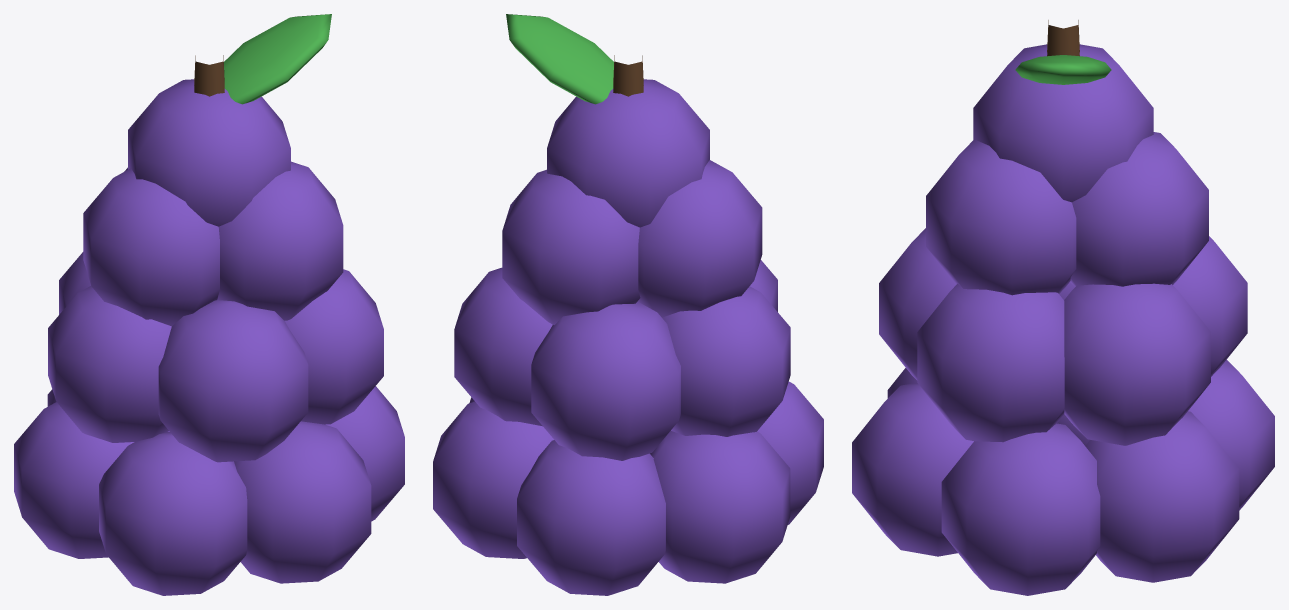
Rendered from grapes.glb.
3 renders of one model, left to right at view 1: azimuth 30°, elevation 25°; view 2: azimuth 150°, elevation 25°; view 3: azimuth 270°, elevation 25°, orthographic. The views are drawn at different scales.
Visible parts, largest first — view 1: match/grapes; view 2: match/grapes; view 3: match/grapes.
Boxes of the visible parts, box(x1,y1,x2,y2) form: match/grapes: box(14, 14, 404, 595); match/grapes: box(433, 14, 823, 595); match/grapes: box(852, 20, 1274, 595).
Bounding box in the file's own units: 0.7163 × 1 × 0.7204.
